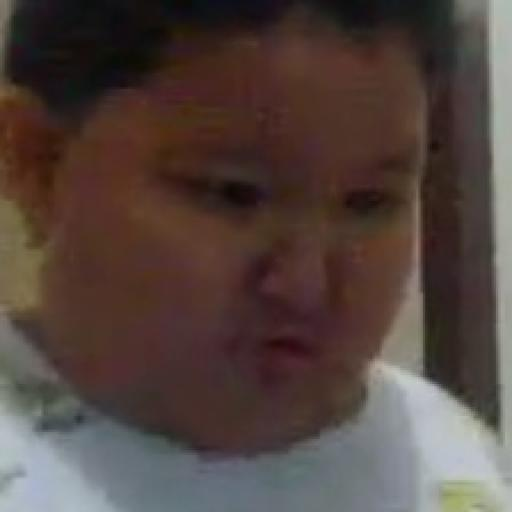Autism: (10, 0, 512, 512)
